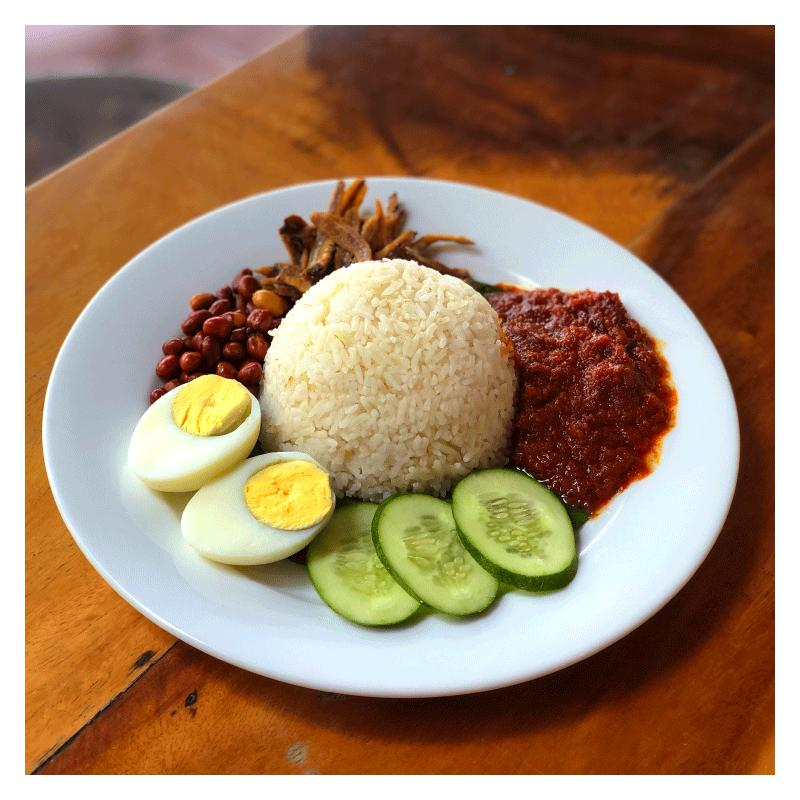Anchovies: (278, 180, 472, 294)
Boiled-Egg: (131, 377, 336, 568)
Cucumber: (308, 469, 573, 628)
Peanuts: (155, 272, 300, 398)
Rice: (261, 261, 516, 498)
Sambal: (479, 285, 673, 516)
